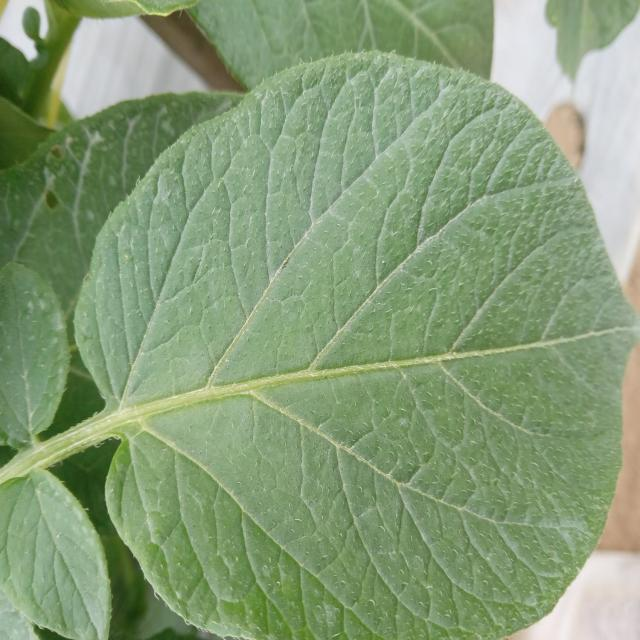healthy: (69, 48, 636, 638)
